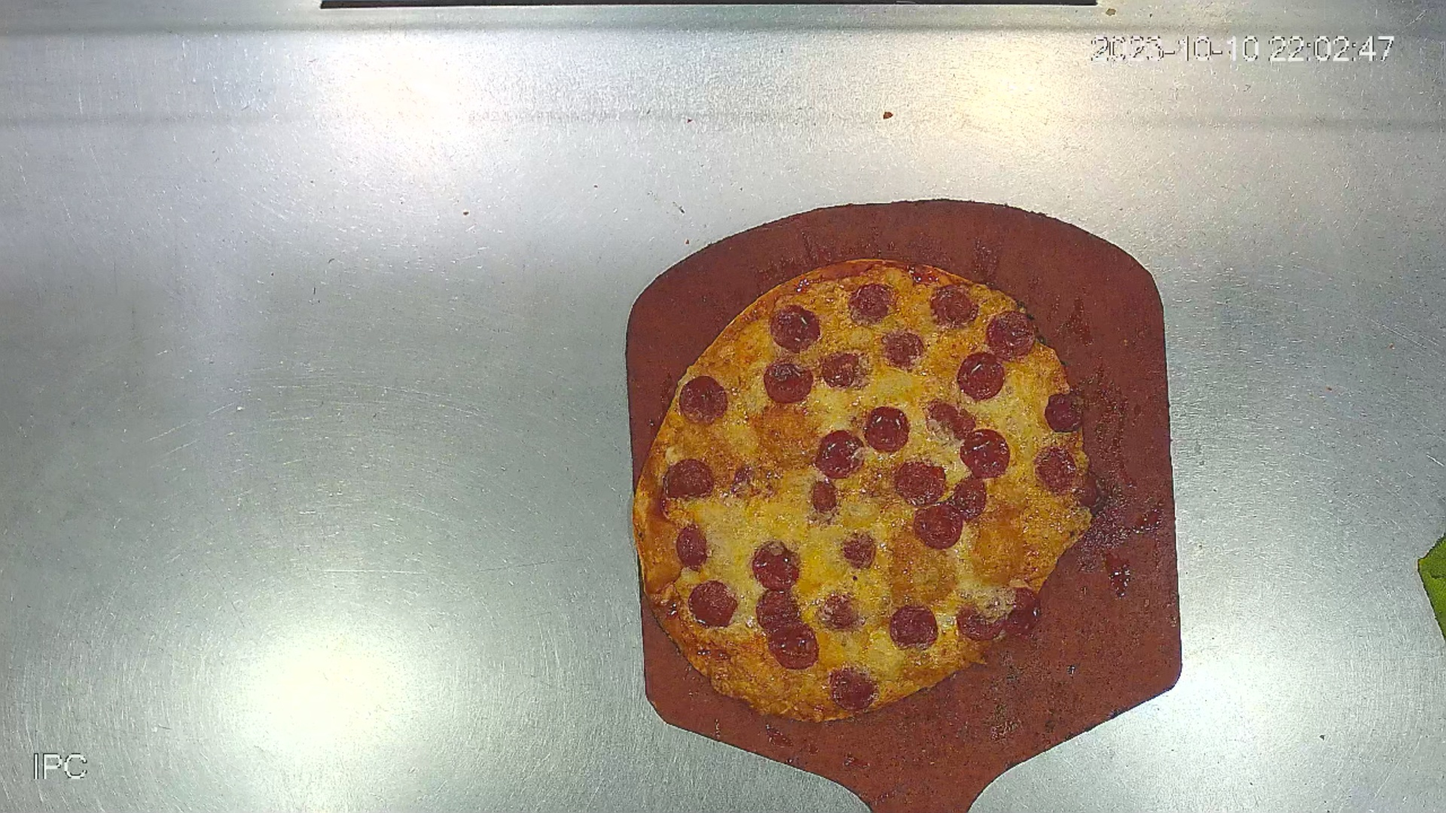pepperoni: (627, 257, 1095, 729)
